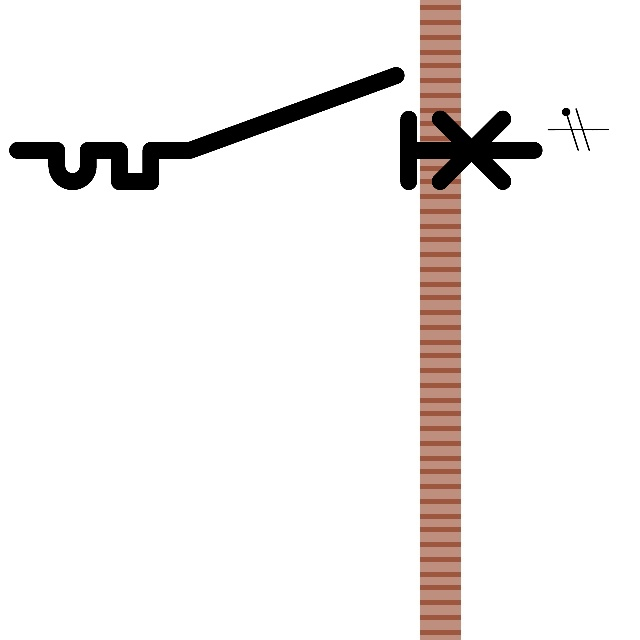interruptor_termomagnetico: (4, 62, 547, 195)
